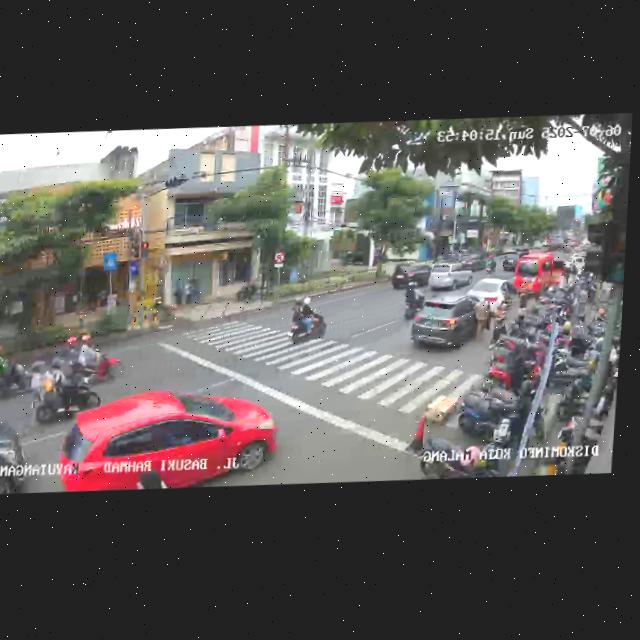car: (55, 385, 278, 495), (407, 294, 484, 355), (0, 408, 36, 495), (513, 250, 569, 299), (465, 276, 514, 316), (426, 259, 474, 294), (389, 260, 431, 292), (501, 252, 530, 272)
motorcycle: (28, 354, 100, 427), (63, 329, 130, 386), (286, 294, 328, 346), (0, 346, 33, 403), (401, 279, 423, 319), (483, 255, 495, 275)
person: (488, 302, 508, 350)
